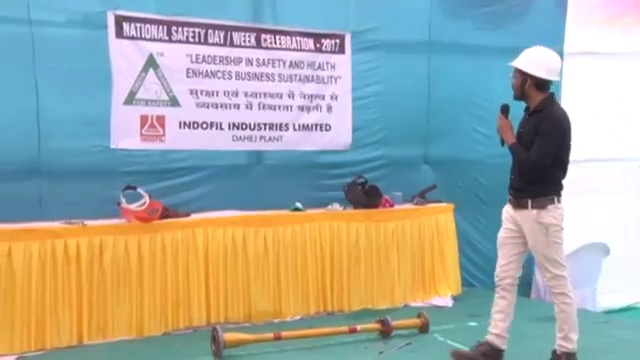helmet: (506, 44, 564, 84)
helmet_on: (504, 42, 565, 103)
person: (465, 42, 582, 360)
